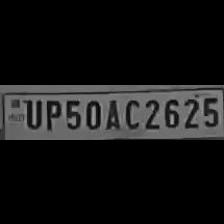0: (82, 96, 102, 128)
2: (142, 94, 160, 130), (182, 94, 198, 128)
5: (200, 94, 218, 128), (61, 96, 80, 128)
6: (160, 94, 178, 128)
A: (102, 96, 120, 130)
C: (121, 94, 139, 130)
P: (43, 96, 61, 130)
U: (21, 97, 41, 129)
